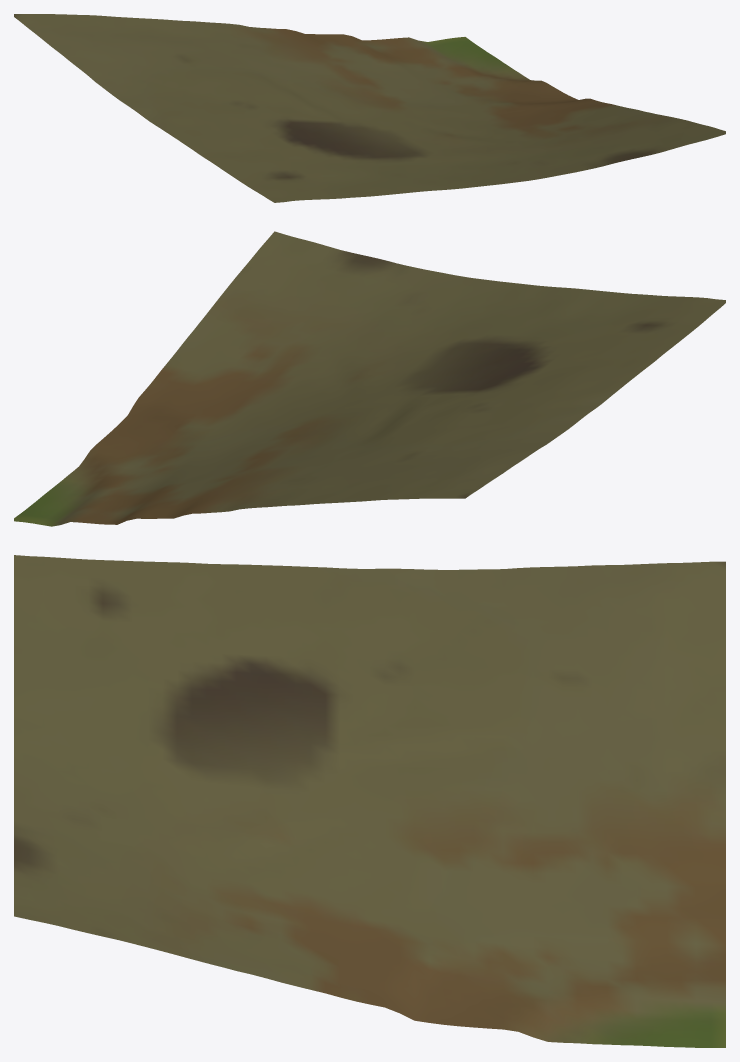
File: land_m_06_09.glb
3 renders of one model, top to bottom at view 1: azimuth 30°, elevation 25°; view 2: azimuth 150°, elevation 25°; view 3: azimuth 270°, elevation 25°, orthographic. The views are drawn at different scales.
Visible parts, largest first — view 1: land_m_06_09; view 2: land_m_06_09; view 3: land_m_06_09.
Boxes of the visible parts, x1,y1,x2,y2 form: land_m_06_09: (14, 14, 725, 202); land_m_06_09: (14, 231, 725, 526); land_m_06_09: (14, 555, 725, 1047).
Bounding box in the file's own units: 960 × 286 × 960.
